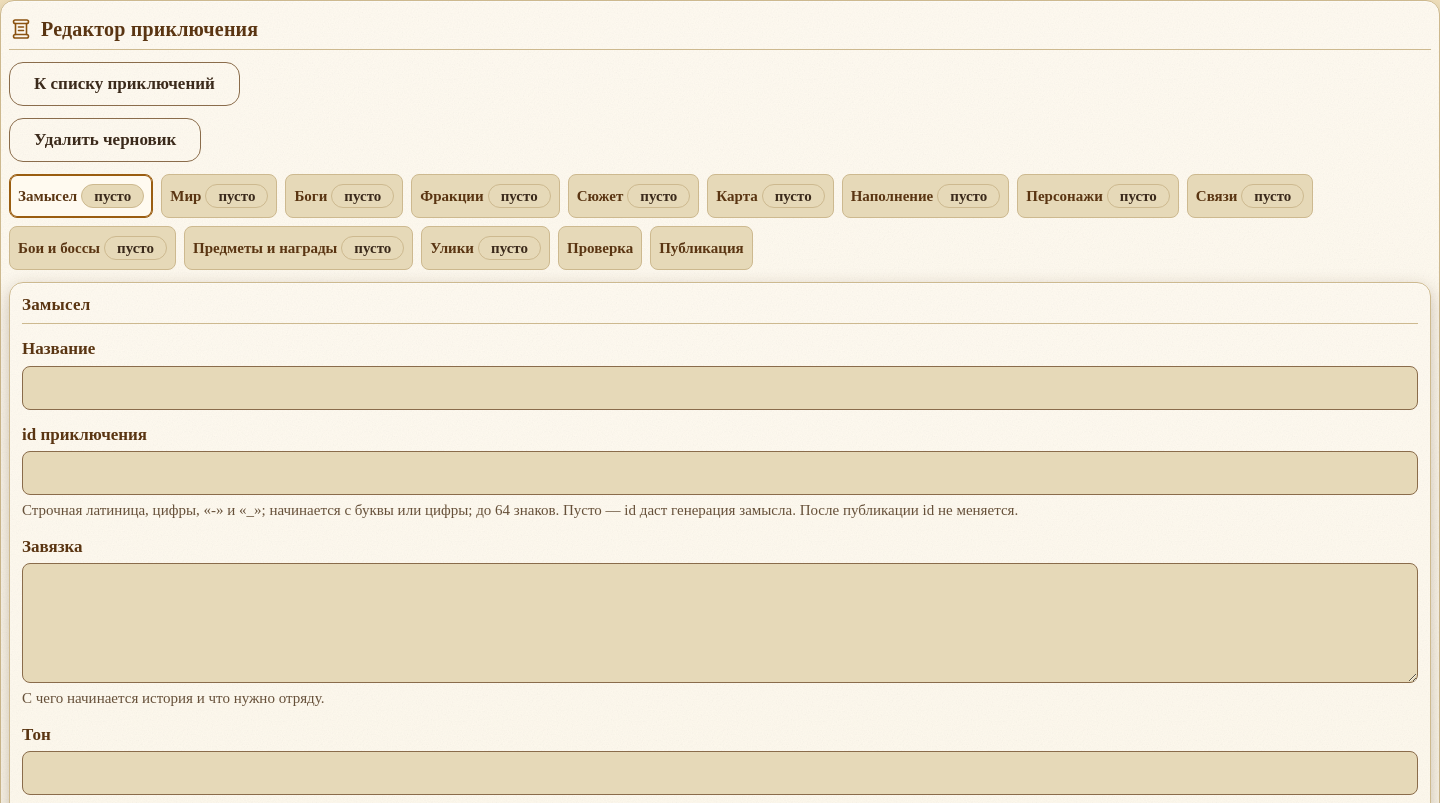
Test: шаг «Карта» › при несохранённых правках «Закрепить» закрыт; правка, возвращённая к сохранённому, — открыт
The image size is (1440, 803).
Click the button "Карта пусто": (770, 196) 707,174 -> 834,218
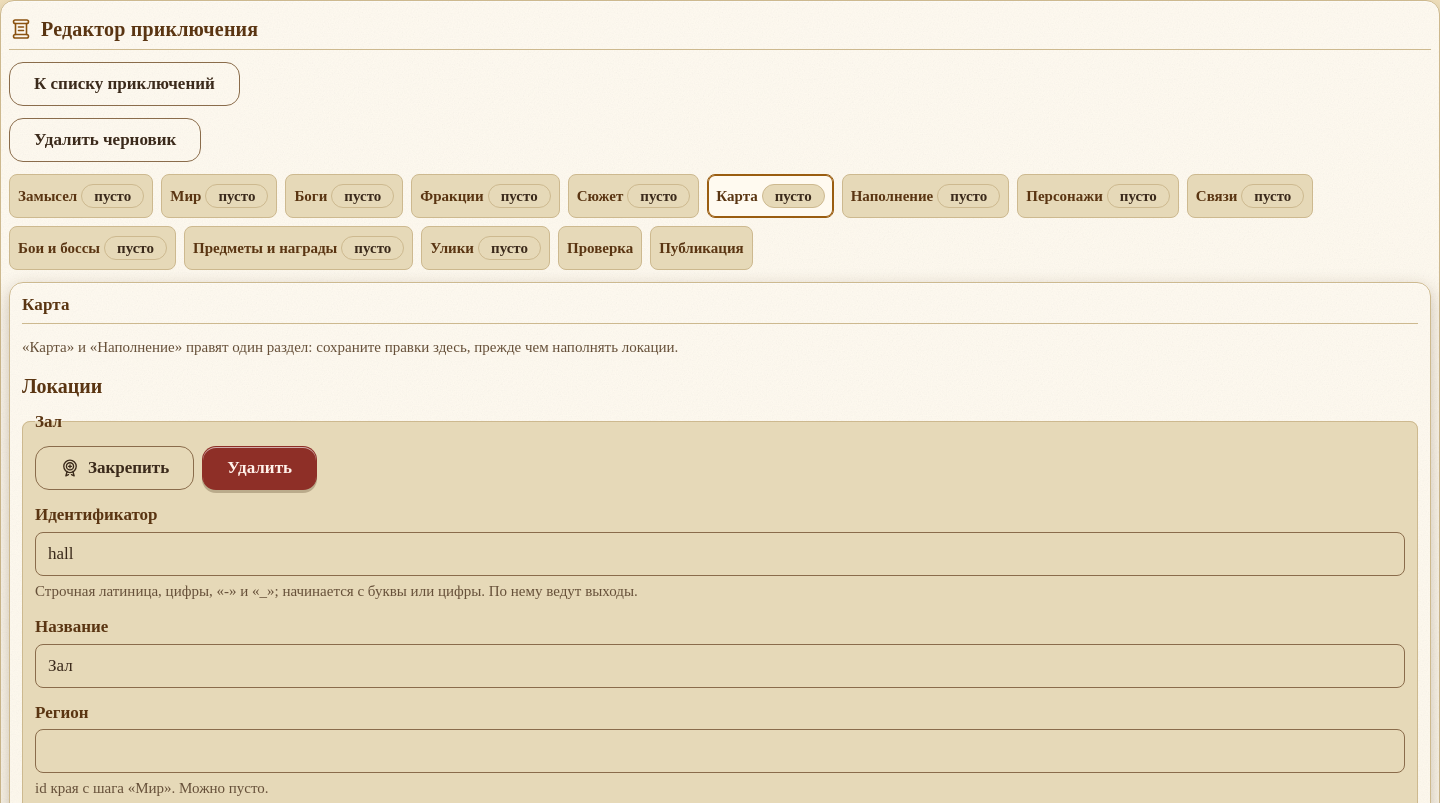
In the field labelled "Регион": (720, 751) 35,729 -> 1405,773, type "cape"
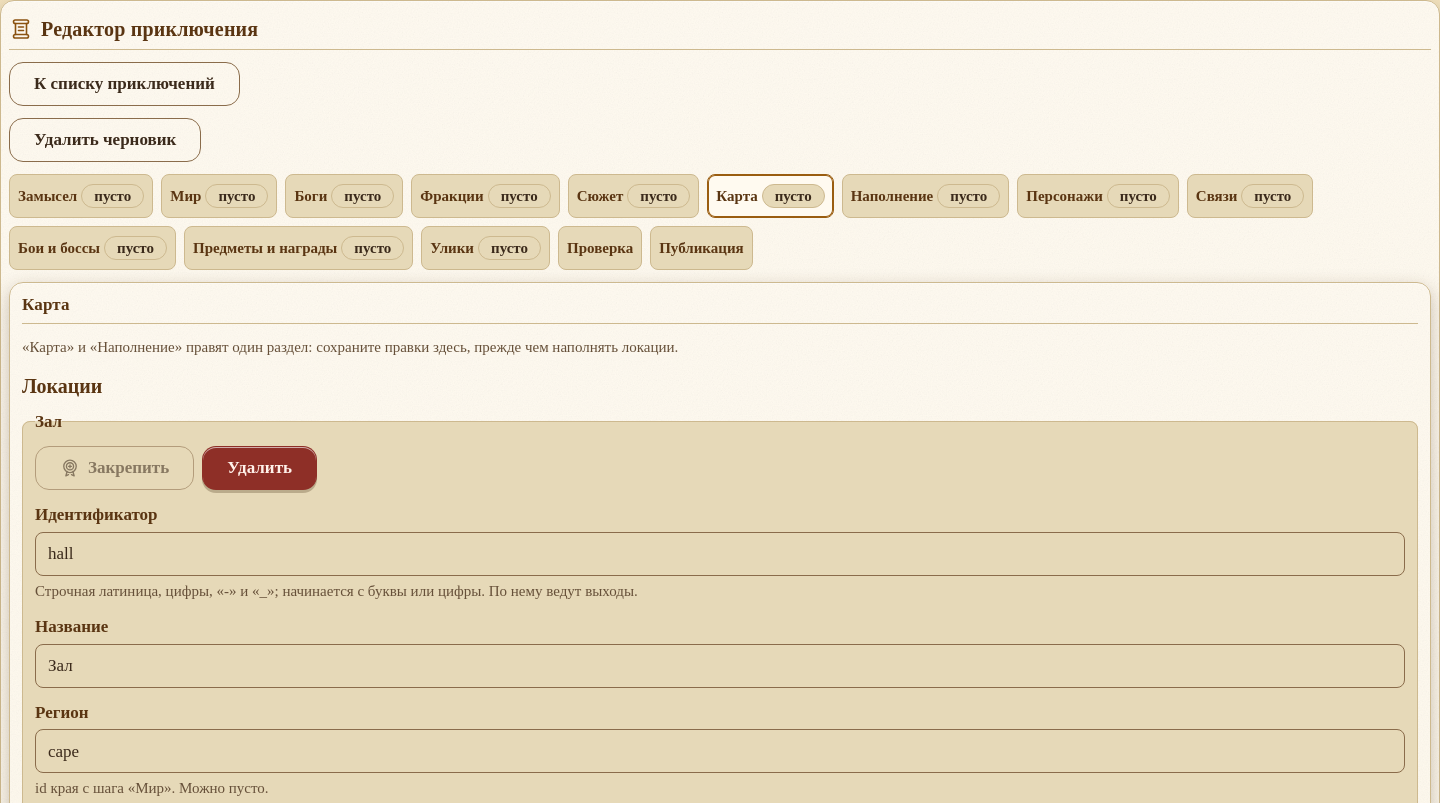
Check: the button with aria-label "Закрепить: Зал" is disabled, box 35,446 -> 194,490
Clear the field labelled "Регион": (720, 751) 35,729 -> 1405,773
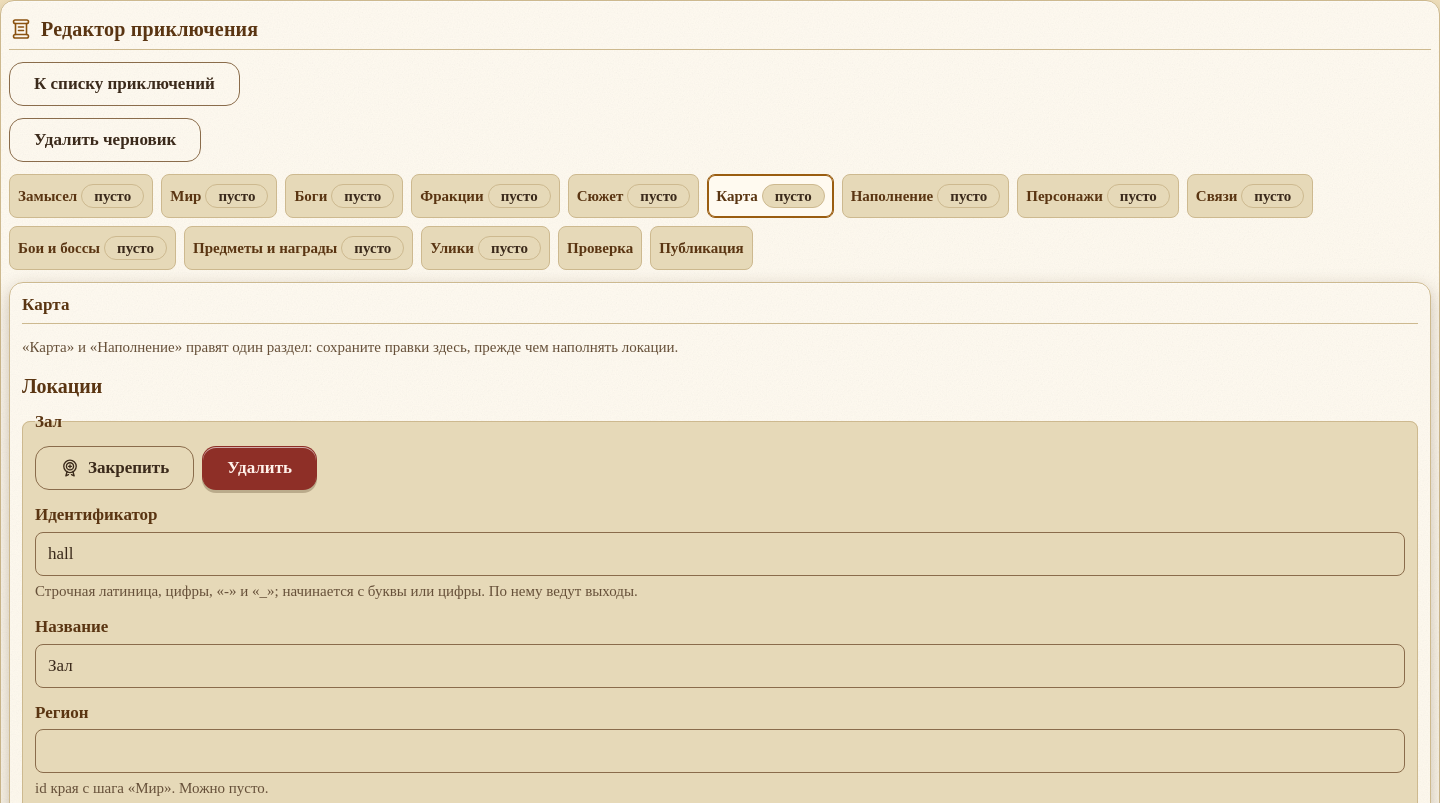
Check: the button with aria-label "Закрепить: Зал" is enabled, box 35,446 -> 194,490
